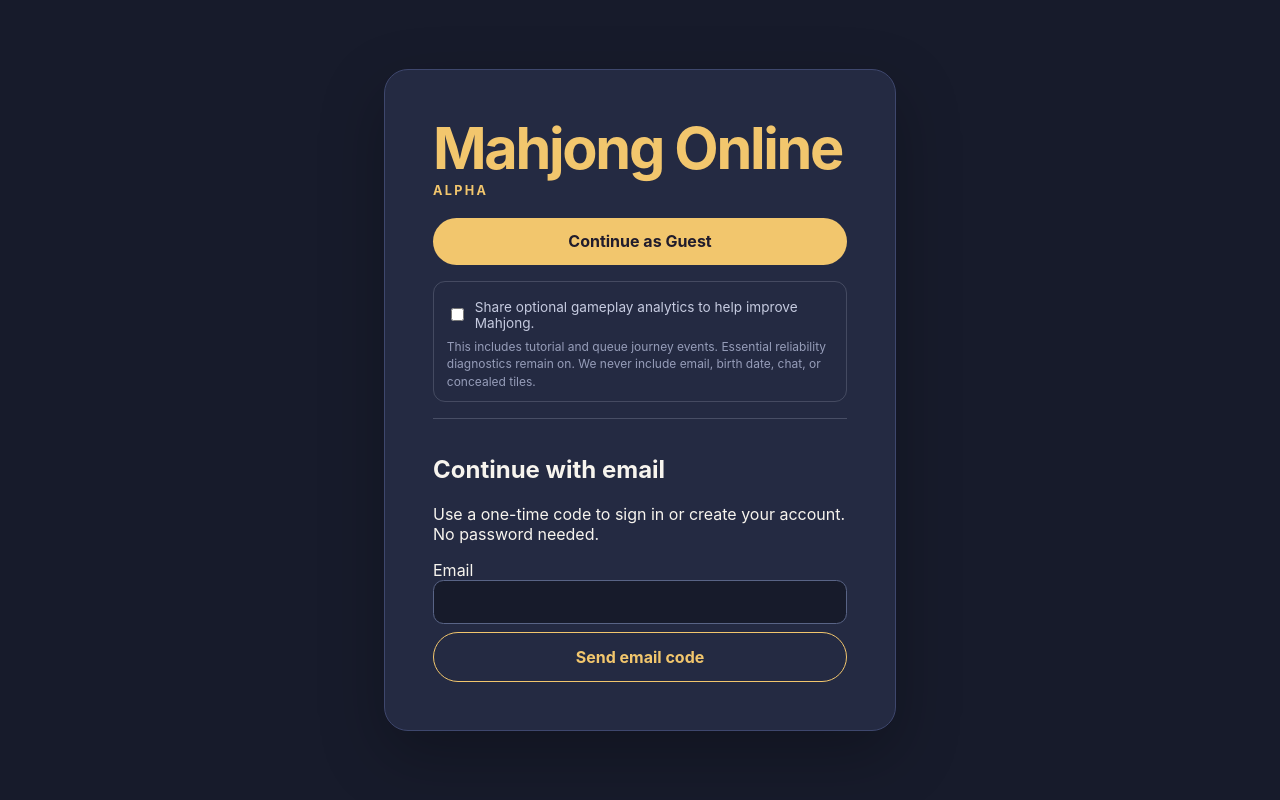
Test: App online matchmaking and requeue › also keeps Ranked unavailable for full accounts
Click the button "Continue as Guest": (640, 241) [433,218,847,265]
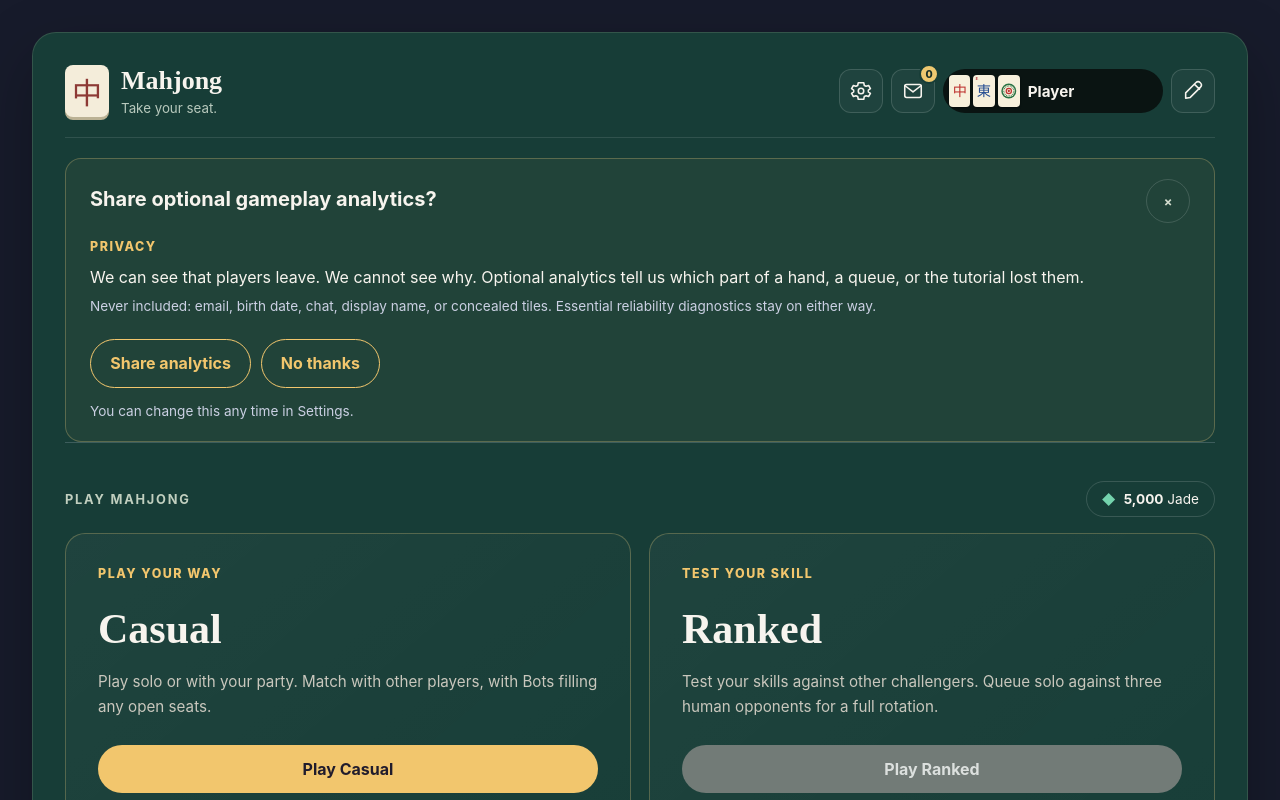
Now the text "Play Ranked" is shown, box [682,745,1182,793]
Now the button "Play Ranked" is disabled, box [682,745,1182,793]
